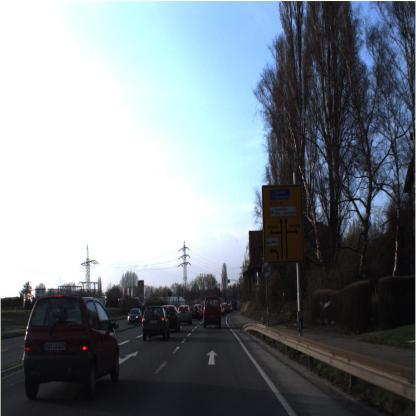other: (259, 262, 273, 280)
